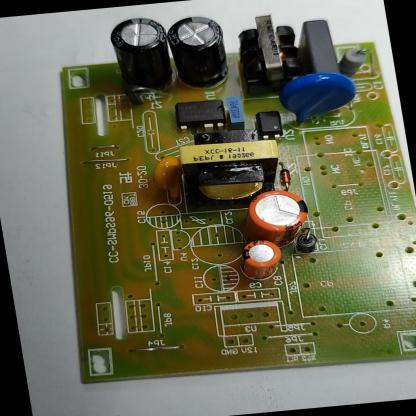Cap1: (246, 186, 313, 244)
Cap2: (241, 238, 285, 282)
Cap3: (165, 17, 234, 92)
Cap4: (110, 21, 177, 96)
MOSFET: (174, 97, 230, 132)
Mov: (274, 70, 362, 126)
Resistor: (339, 44, 373, 74)
Transformer: (172, 126, 288, 209), (232, 11, 308, 97)
